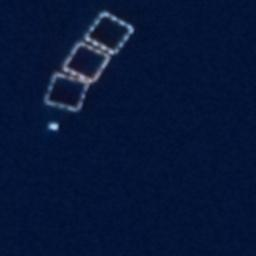square_solid: (81, 8, 138, 58), (61, 37, 115, 84), (42, 67, 93, 114)
